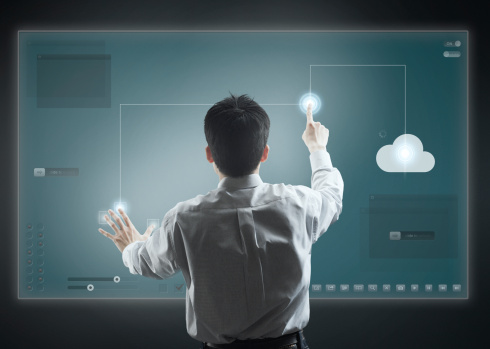em pe: (120, 93, 342, 349)
